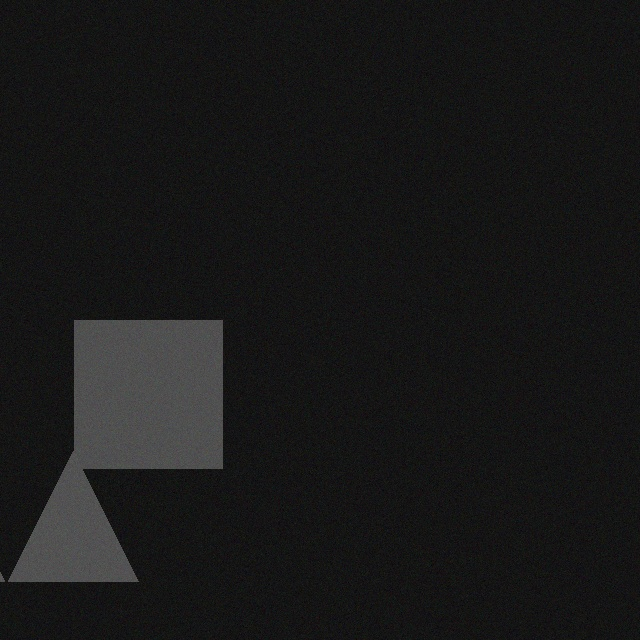square: (68, 330, 216, 478)
triangle: (2, 461, 132, 591)
